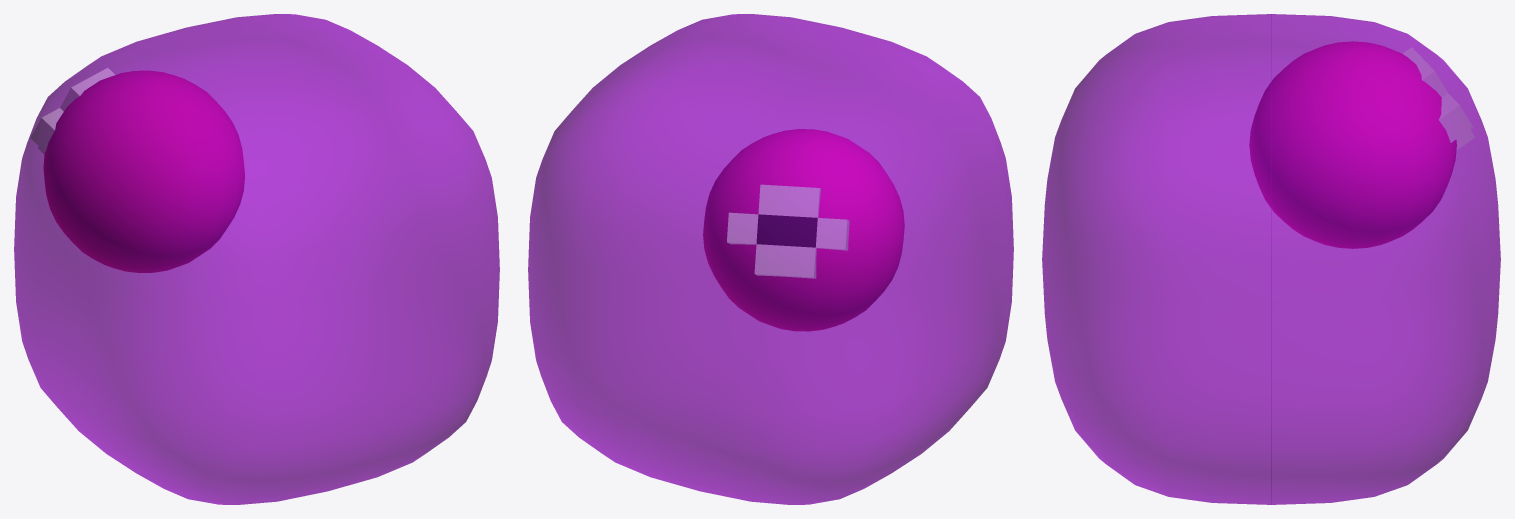
File: br-m-oliveS.fbx
The picture shows the model from 3 angles, left to right: view 1: azimuth 30°, elevation 25°; view 2: azimuth 150°, elevation 25°; view 3: azimuth 270°, elevation 25°; orthographic projection. The views are drawn at different scales.
Parts seen in each view (by area): view 1: oliveS4, olive1, eye; view 2: oliveS4, olive1, eye; view 3: oliveS4, olive1, eye.
Boxes of the visible parts, x1=… form: oliveS4: x1=14, y1=14, x2=499, y2=504; olive1: x1=43, y1=70, x2=244, y2=272; eye: x1=30, y1=68, x2=114, y2=154; oliveS4: x1=528, y1=14, x2=1013, y2=504; olive1: x1=703, y1=129, x2=904, y2=331; eye: x1=727, y1=184, x2=849, y2=278; oliveS4: x1=1042, y1=14, x2=1500, y2=504; olive1: x1=1249, y1=41, x2=1456, y2=248; eye: x1=1402, y1=47, x2=1474, y2=149.
Size of the model in its own units: 1 by 1 by 1.
